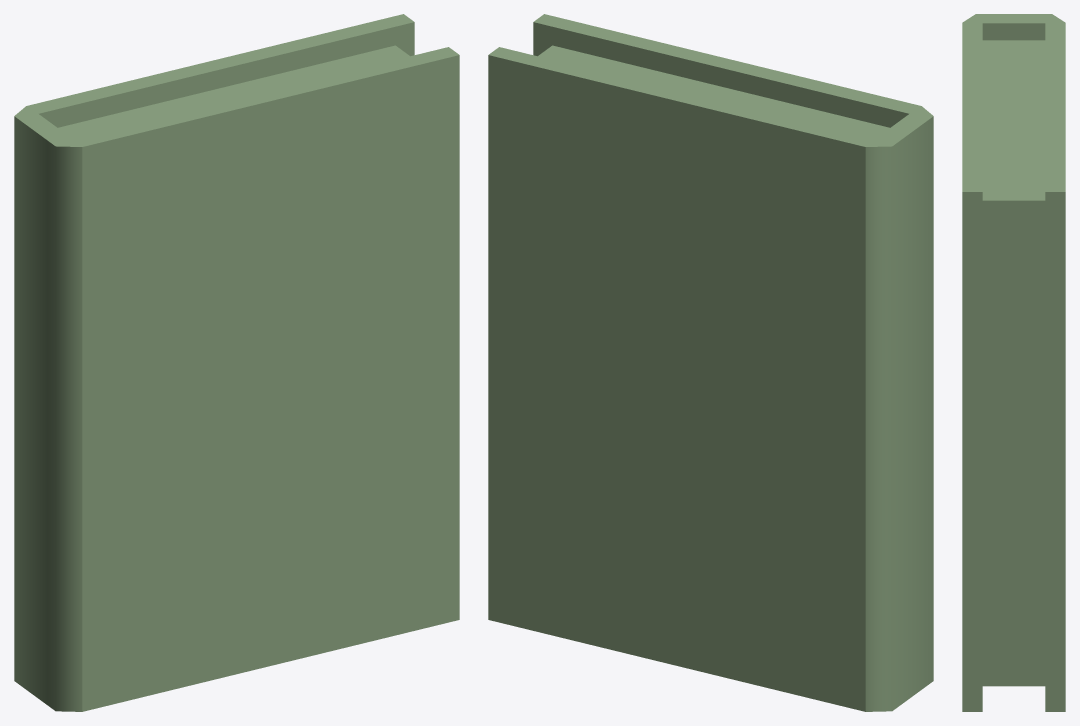
Rendered from Book_V09.fbx.
3 views of the same model, side by side, from view 1: azimuth 30°, elevation 25°; view 2: azimuth 150°, elevation 25°; view 3: azimuth 270°, elevation 25° (orthographic). The views are drawn at different scales.
Parts seen in each view (by area): view 1: Book_V9; view 2: Book_V9; view 3: Book_V9.
Boxes of the visible parts, x1,y1,x2,y2 form: Book_V9: (14, 14, 459, 711); Book_V9: (488, 14, 933, 711); Book_V9: (962, 14, 1065, 711).
Bounding box in the file's own units: 23.01 × 31.3 × 5.63.
